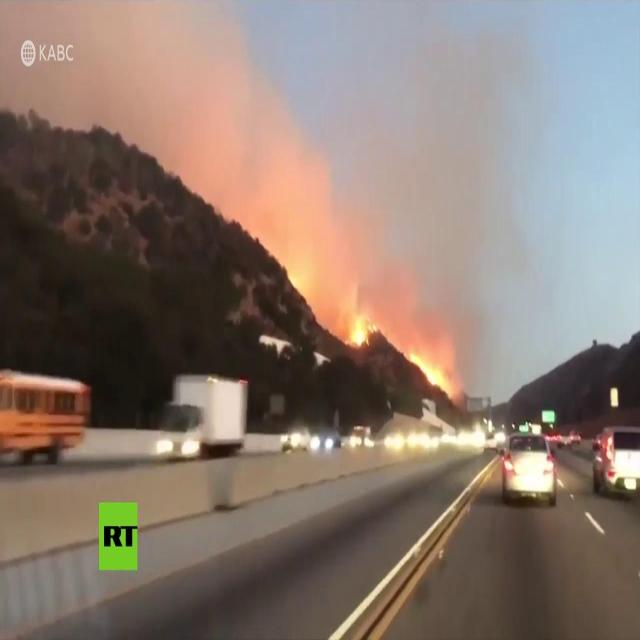Fire: (407, 354, 455, 400), (350, 307, 380, 351)
